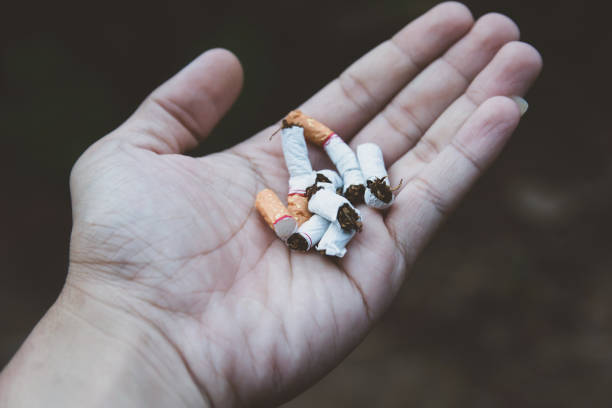cigarette: (282, 110, 365, 203), (278, 118, 312, 228), (355, 141, 395, 210), (307, 187, 364, 232), (253, 187, 298, 242), (316, 214, 358, 260), (287, 212, 329, 252), (305, 166, 346, 199)
